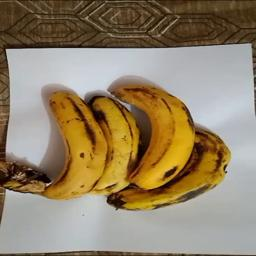Banana Semifresh: (31, 82, 237, 211)
